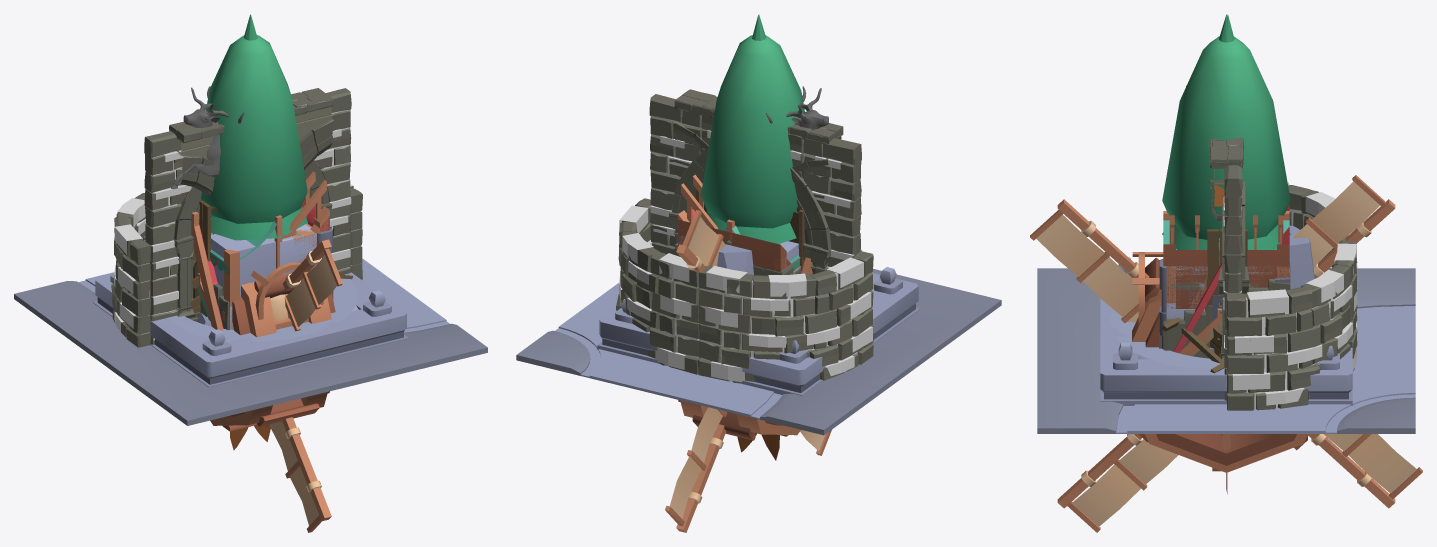
The model's file is citykit.glb.
3 renders of one model, left to right at view 1: azimuth 30°, elevation 25°; view 2: azimuth 150°, elevation 25°; view 3: azimuth 270°, elevation 25°, orthographic. The views are drawn at different scales.
Visible parts, largest first — view 1: town_road_bend, town_tree_high_round, town_fountain_square_detail, town_windmill, ruin_wall_archgothic__part0, ruin_wall_archround__part0, ruin_curve_1__part0, town_watermill_wide, ruin_support_center__part0, town_wall_block, ruin_arch_round__part0, town_fountain_round_detail (+14 smaller); view 2: town_road_bend, town_tree_high_round, ruin_curve_1__part0, town_fountain_square_detail, ruin_curve_1_overgrown__part0, ruin_curve_2__part0, town_windmill, ruin_wall_archgothic__part0, ruin_wall_archround__part0, ruin_curve_2_overgrown__part0, ruin_arch_gothic__part0, ruin_wall_archround_overgrown__part0 (+10 smaller); view 3: town_road_bend, town_windmill, town_tree_high_round, ruin_curve_2__part0, town_fountain_square_detail, ruin_curve_2_overgrown__part0, town_watermill_wide, town_roof_high_cornerinner, ruin_wall_archgothic__part0, town_fountain_round_detail, town_roof_high_left, ruin_wall_archround__part0 (+19 smaller).
Boxes of the visible parts, x1=… form: town_road_bend: x1=14, y1=258, x2=487, y2=425; town_tree_high_round: x1=201, y1=35, x2=307, y2=223; town_fountain_square_detail: x1=93, y1=272, x2=408, y2=387; town_windmill: x1=266, y1=239, x2=342, y2=532; ruin_wall_archgothic__part0: x1=144, y1=88, x2=351, y2=341; ruin_wall_archround__part0: x1=144, y1=94, x2=351, y2=344; ruin_curve_1__part0: x1=111, y1=193, x2=151, y2=347; town_watermill_wide: x1=210, y1=273, x2=335, y2=431; ruin_support_center__part0: x1=176, y1=88, x2=333, y2=194; town_wall_block: x1=211, y1=233, x2=304, y2=306; ruin_arch_round__part0: x1=174, y1=160, x2=332, y2=318; town_fountain_round_detail: x1=159, y1=278, x2=358, y2=365; town_road_bend: x1=516, y1=268, x2=1001, y2=435; town_tree_high_round: x1=700, y1=35, x2=804, y2=228; ruin_curve_1__part0: x1=698, y1=251, x2=873, y2=383; town_fountain_square_detail: x1=597, y1=267, x2=920, y2=395; ruin_curve_1_overgrown__part0: x1=701, y1=257, x2=872, y2=382; ruin_curve_2__part0: x1=616, y1=198, x2=699, y2=374; town_windmill: x1=665, y1=137, x2=841, y2=532; ruin_wall_archgothic__part0: x1=649, y1=94, x2=861, y2=266; ruin_wall_archround__part0: x1=649, y1=112, x2=861, y2=268; ruin_curve_2_overgrown__part0: x1=618, y1=205, x2=699, y2=369; ruin_arch_gothic__part0: x1=669, y1=149, x2=830, y2=273; ruin_wall_archround_overgrown__part0: x1=650, y1=110, x2=861, y2=268; town_road_bend: x1=1037, y1=268, x2=1415, y2=433; town_windmill: x1=1030, y1=175, x2=1422, y2=532; town_tree_high_round: x1=1162, y1=36, x2=1290, y2=241; ruin_curve_2__part0: x1=1227, y1=239, x2=1357, y2=410; town_fountain_square_detail: x1=1100, y1=257, x2=1352, y2=405; ruin_curve_2_overgrown__part0: x1=1228, y1=243, x2=1357, y2=409; town_watermill_wide: x1=1132, y1=257, x2=1307, y2=472; town_roof_high_cornerinner: x1=1163, y1=204, x2=1289, y2=308; ruin_wall_archgothic__part0: x1=1224, y1=165, x2=1242, y2=396; town_fountain_round_detail: x1=1110, y1=309, x2=1226, y2=403; town_roof_high_left: x1=1163, y1=244, x2=1289, y2=308; ruin_wall_archround__part0: x1=1224, y1=168, x2=1242, y2=400.
Bounding box in the file's own units: 6 × 9.06 × 6.23.
Materials: 24 (1 with a texture image).
